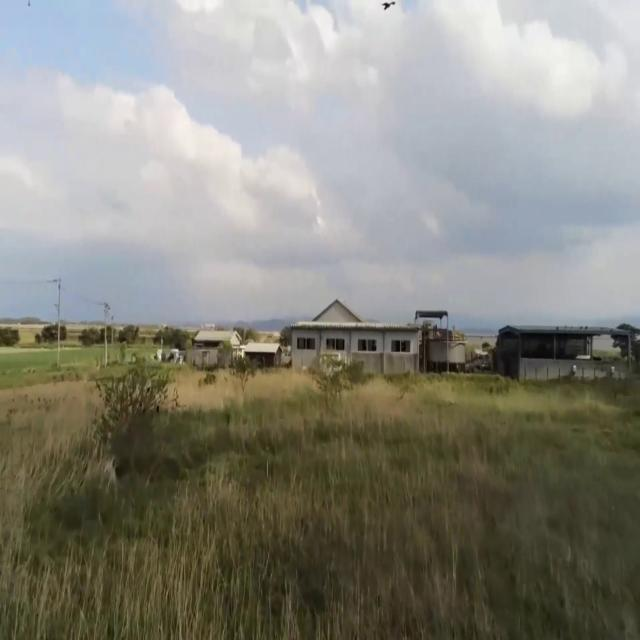bird: (381, 0, 395, 22)
